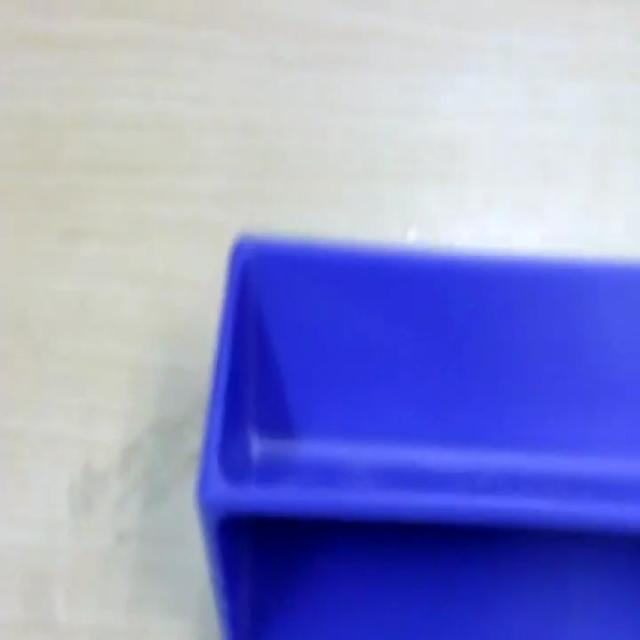blue_block: (195, 229, 639, 636)
